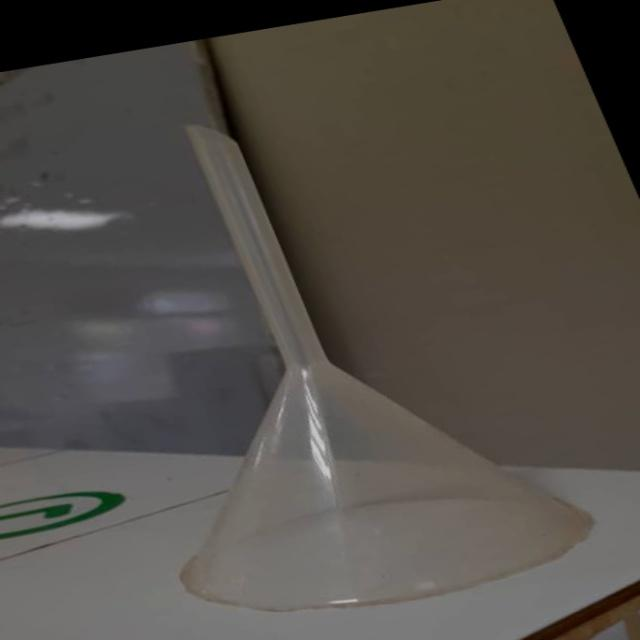Funnel: (11, 107, 610, 636)
